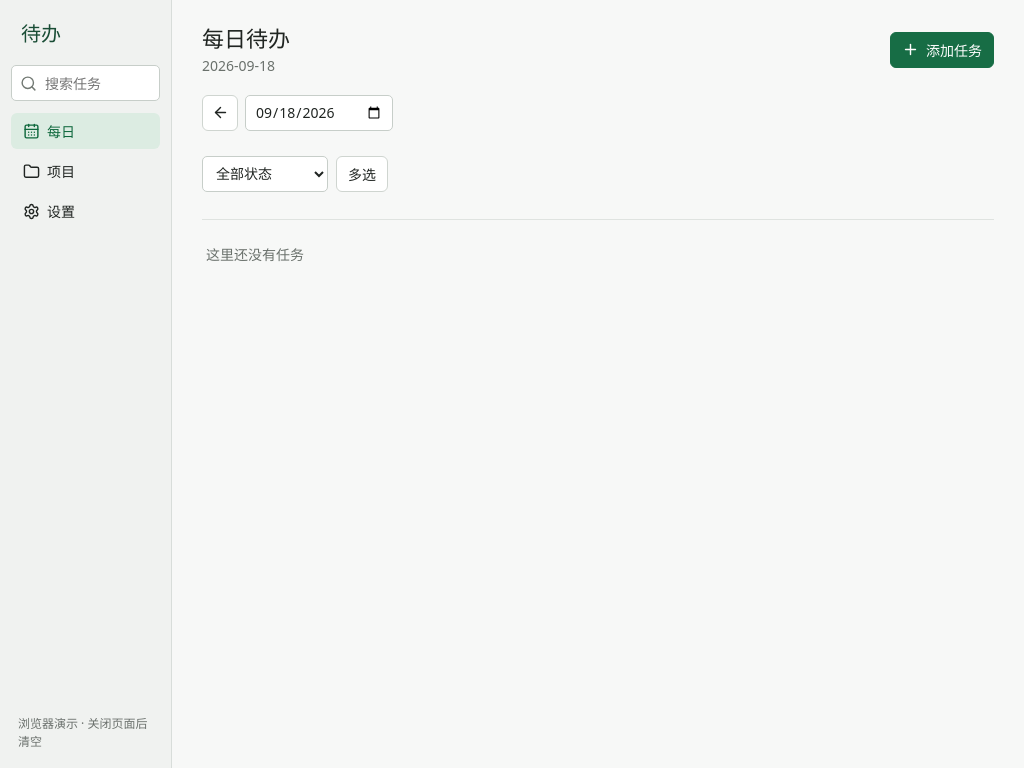
Test: search results annotate project, status, and recurrence instance
The width and height of the screenshot is (1024, 768).
Type "写报告" into the search field labelled "搜索任务".
click(86, 83); type("写报告")  # box [11,65,160,101]
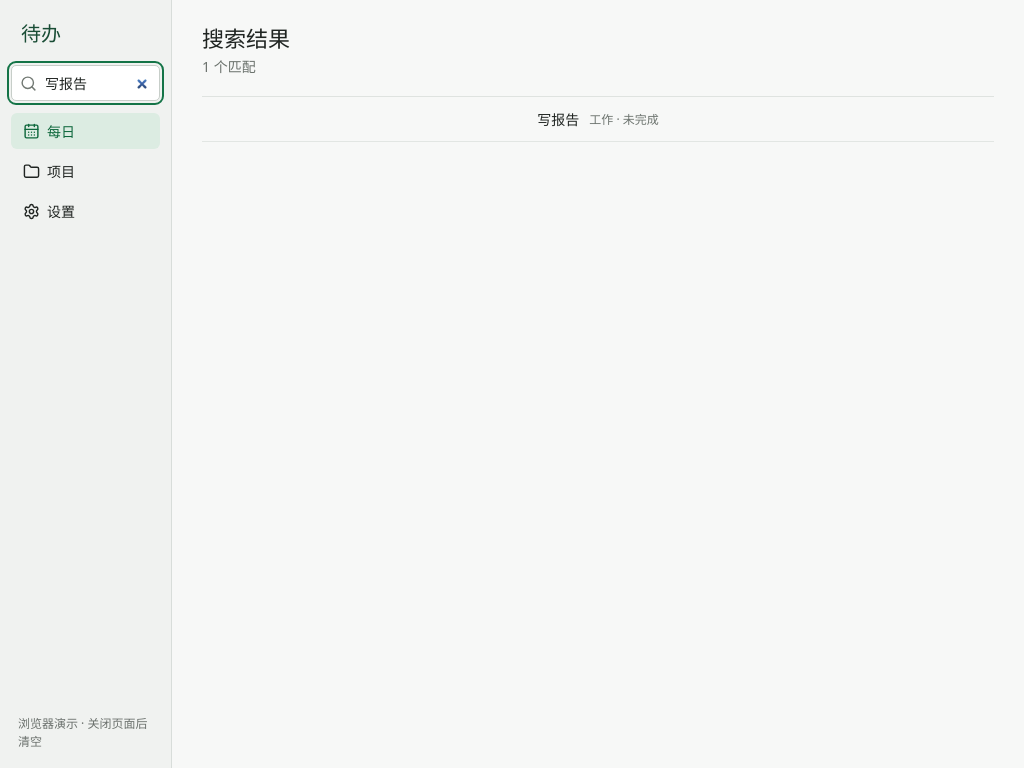
Now the text "工作 · 未完成" is shown, box [589,110,659,128]
Replace the text in the search field named "搜索任务" with "晨跑" at x=86, y=83, box [11,65,160,101]
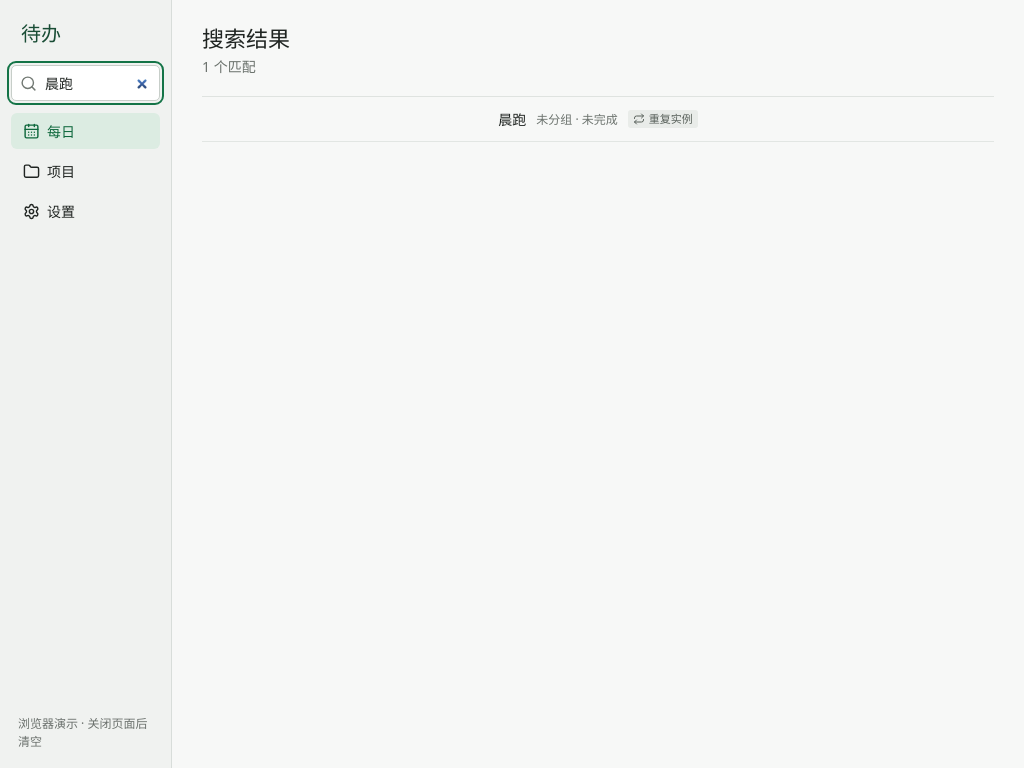
Now the text "未分组 · 未完成" is shown, box [536,110,618,128]
Now the text "重复实例" is shown, box [628,110,698,128]
